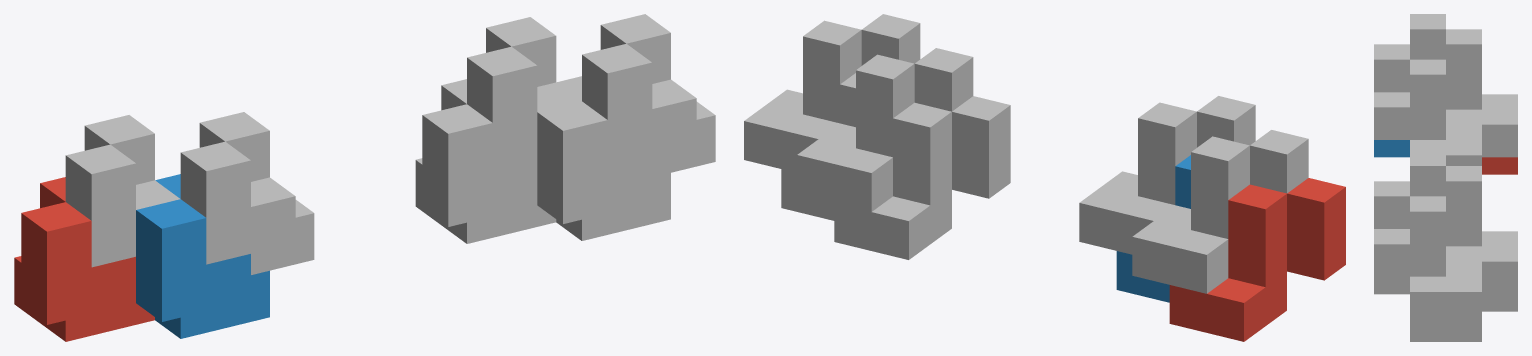
Rendered from tiling.obj.
The picture shows the model from 3 angles, left to right: view 1: azimuth 30°, elevation 25°; view 2: azimuth 150°, elevation 25°; view 3: azimuth 270°, elevation 25°; orthographic projection. The views are drawn at different scales.
Parts seen in each view (by area): view 1: copy_1_domain_4, copy_1_domain_8, copy_1_domain_5, copy_1_domain_1, copy_1_domain_6, copy_1_domain_2, copy_1_domain_7, copy_1_domain_3; view 2: copy_1_domain_1, copy_1_domain_5, copy_1_domain_3, copy_1_domain_7, copy_1_domain_4, copy_1_domain_8, copy_1_domain_2, copy_1_domain_6; view 3: copy_1_domain_8, copy_1_domain_4, copy_1_domain_7, copy_1_domain_3, copy_1_domain_6, copy_1_domain_1, copy_1_domain_2, copy_1_domain_5.
Part boxes in pixels (box(x1,y1,x2,y2)): copy_1_domain_4: box(180, 112, 314, 274); copy_1_domain_8: box(582, 14, 715, 177); copy_1_domain_5: box(415, 79, 556, 243); copy_1_domain_1: box(14, 177, 154, 341); copy_1_domain_6: box(537, 76, 670, 240); copy_1_domain_2: box(136, 174, 269, 338); copy_1_domain_7: box(467, 17, 581, 169); copy_1_domain_3: box(65, 115, 180, 267); copy_1_domain_1: box(1169, 178, 1345, 341); copy_1_domain_5: box(834, 96, 1010, 259); copy_1_domain_3: box(1132, 130, 1308, 293); copy_1_domain_7: box(797, 48, 973, 211); copy_1_domain_4: box(1079, 96, 1255, 254); copy_1_domain_8: box(744, 14, 920, 172); copy_1_domain_2: box(1116, 155, 1190, 302); copy_1_domain_6: box(781, 73, 855, 220); copy_1_domain_8: box(1374, 181, 1481, 324); copy_1_domain_4: box(1374, 44, 1481, 165); copy_1_domain_7: box(1410, 150, 1517, 294); copy_1_domain_3: box(1410, 14, 1517, 157); copy_1_domain_6: box(1374, 276, 1481, 341); copy_1_domain_1: box(1482, 157, 1517, 174); copy_1_domain_2: box(1374, 140, 1409, 157); copy_1_domain_5: box(1482, 294, 1517, 311).
Size of the model in its own units: 15 by 4 by 4.
